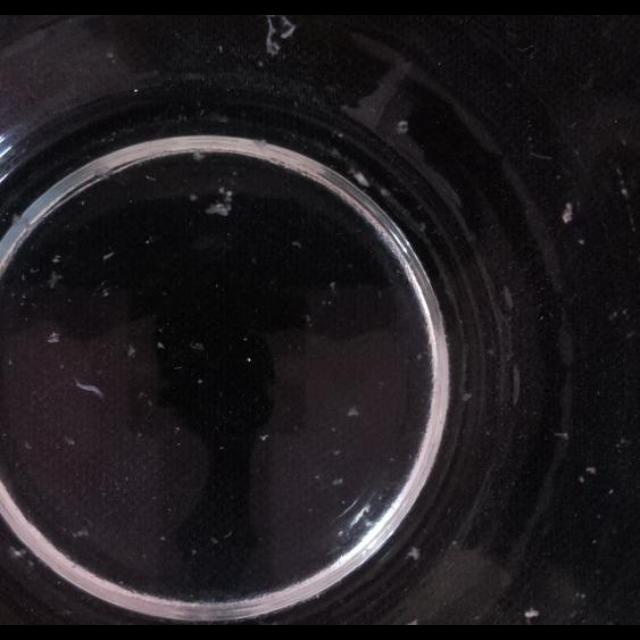Fibre: (484, 277, 518, 418), (264, 15, 296, 55), (205, 187, 235, 217), (614, 165, 632, 215), (501, 287, 513, 311), (10, 213, 22, 231), (396, 120, 408, 134), (47, 331, 61, 343), (192, 150, 206, 162), (126, 345, 136, 359)
microbeads: (8, 544, 26, 560), (562, 202, 574, 224), (407, 546, 421, 562), (524, 609, 538, 621), (72, 528, 88, 538), (346, 407, 359, 418), (191, 341, 205, 351), (361, 504, 372, 516), (331, 476, 343, 486), (364, 519, 374, 529), (51, 254, 61, 264), (586, 466, 596, 476), (329, 280, 337, 292), (259, 433, 269, 442), (462, 391, 471, 401), (188, 194, 198, 202), (333, 448, 343, 456), (292, 241, 302, 249), (218, 44, 225, 54), (174, 426, 182, 434), (157, 341, 165, 349), (210, 537, 218, 545), (578, 475, 586, 483), (160, 534, 167, 542), (329, 425, 336, 433), (192, 548, 198, 556), (578, 238, 584, 246), (246, 357, 252, 363), (197, 378, 203, 384), (608, 488, 614, 494)
